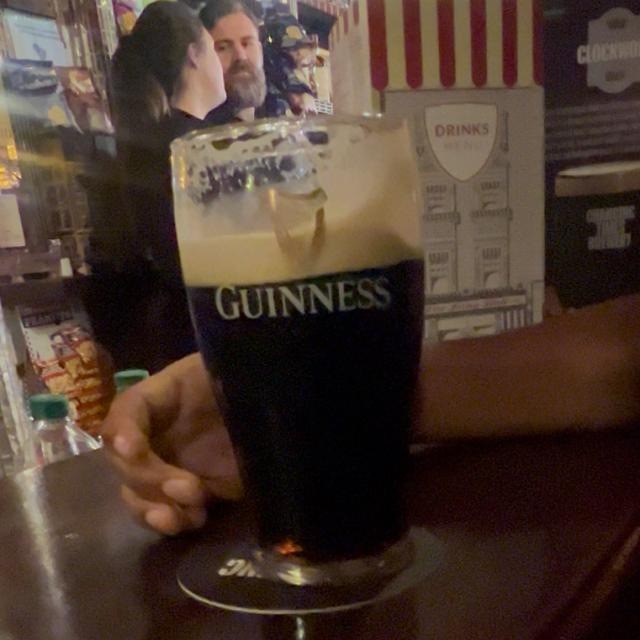too_high_glass: (165, 113, 445, 583)
